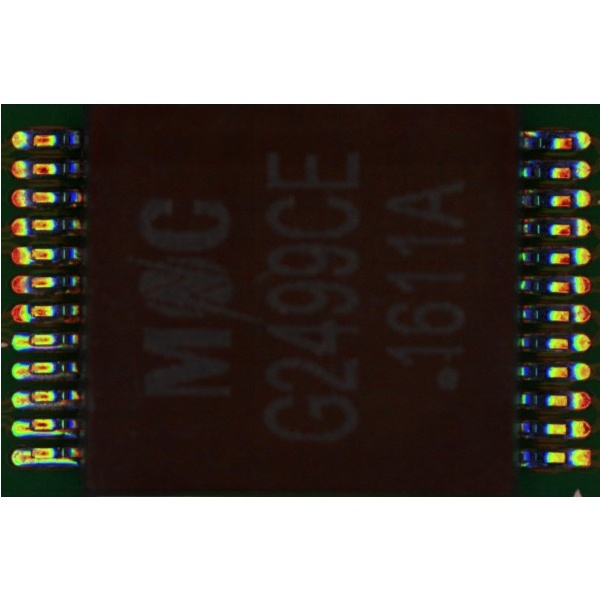Bad_podu: (24, 422, 42, 432), (22, 393, 40, 402), (22, 365, 39, 374), (23, 451, 40, 460), (24, 337, 37, 345)
Bad_qiaojiao: (30, 459, 76, 466), (29, 431, 74, 438), (30, 345, 70, 350)
